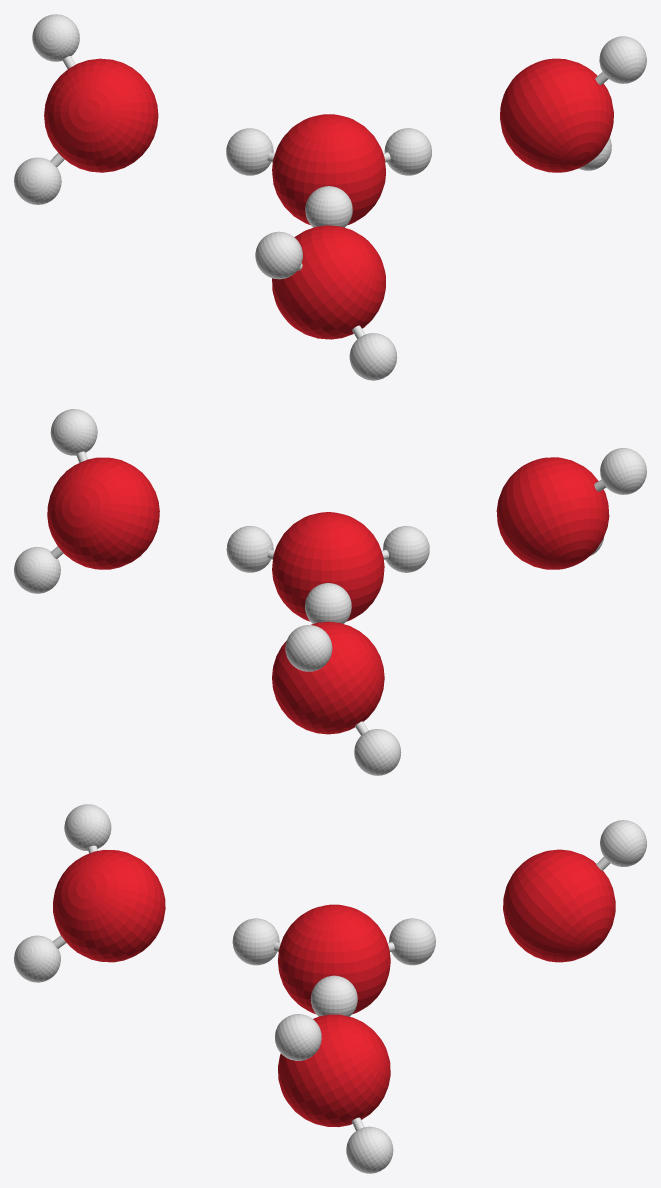
Rendered from Hydrated_Oxonium.fbx.
3 views of the same model, one above another, from view 1: azimuth 30°, elevation 25°; view 2: azimuth 150°, elevation 25°; view 3: azimuth 270°, elevation 25° (orthographic).
Parts seen in each view (by area): view 1: Sphere.001; view 2: Sphere.001; view 3: Sphere.001.
Boxes of the visible parts, box(x1,y1,x2,y2) form: Sphere.001: box(14, 14, 646, 380); Sphere.001: box(14, 409, 646, 775); Sphere.001: box(14, 804, 646, 1173).
Size of the model in its own units: 597 by 181 by 672.
